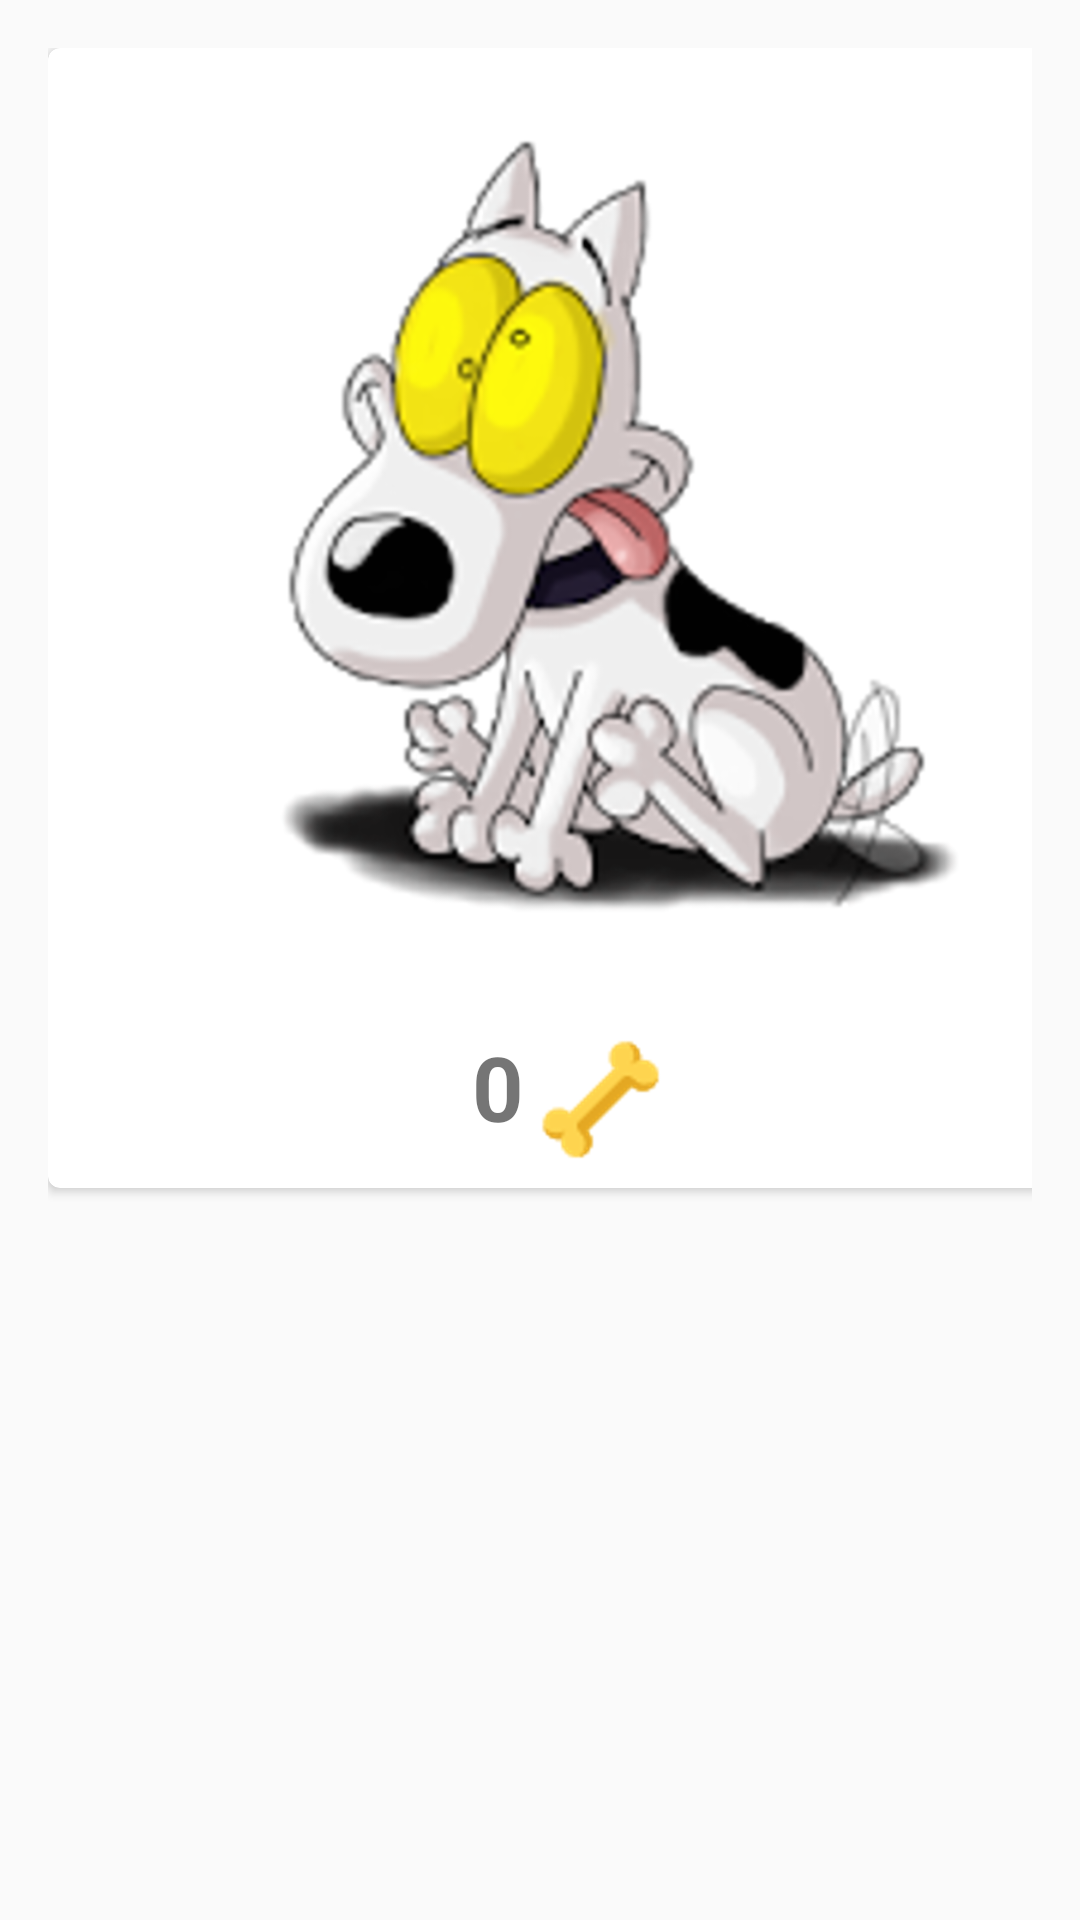

Screen size 1080*1920. Icon name, then its center in pixels as (x=x, y=y):
bone: (x=600, y=1099)
